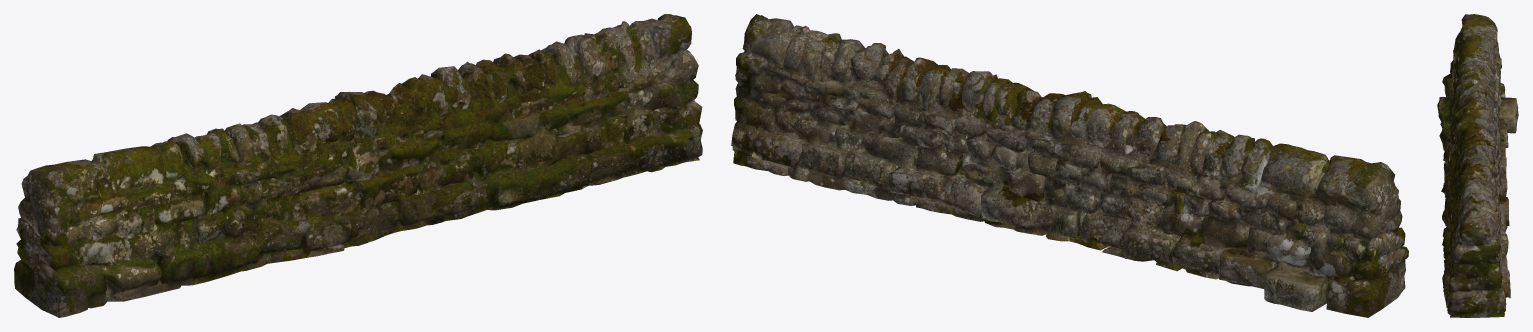
3 views of the same model, side by side, from view 1: azimuth 30°, elevation 25°; view 2: azimuth 150°, elevation 25°; view 3: azimuth 270°, elevation 25° (orthographic). The views are drawn at different scales.
Visible parts, largest first — view 1: ujyjbehqx_LOD0_TIER2_000; view 2: ujyjbehqx_LOD0_TIER2_000; view 3: ujyjbehqx_LOD0_TIER2_000.
Boxes of the visible parts, x1,y1,x2,y2 form: ujyjbehqx_LOD0_TIER2_000: (14, 14, 702, 317); ujyjbehqx_LOD0_TIER2_000: (731, 14, 1408, 317); ujyjbehqx_LOD0_TIER2_000: (1437, 14, 1518, 317).
Size of the model in its own units: 3.98 by 0.7962 by 0.6278.
1 material, 1 textured.
